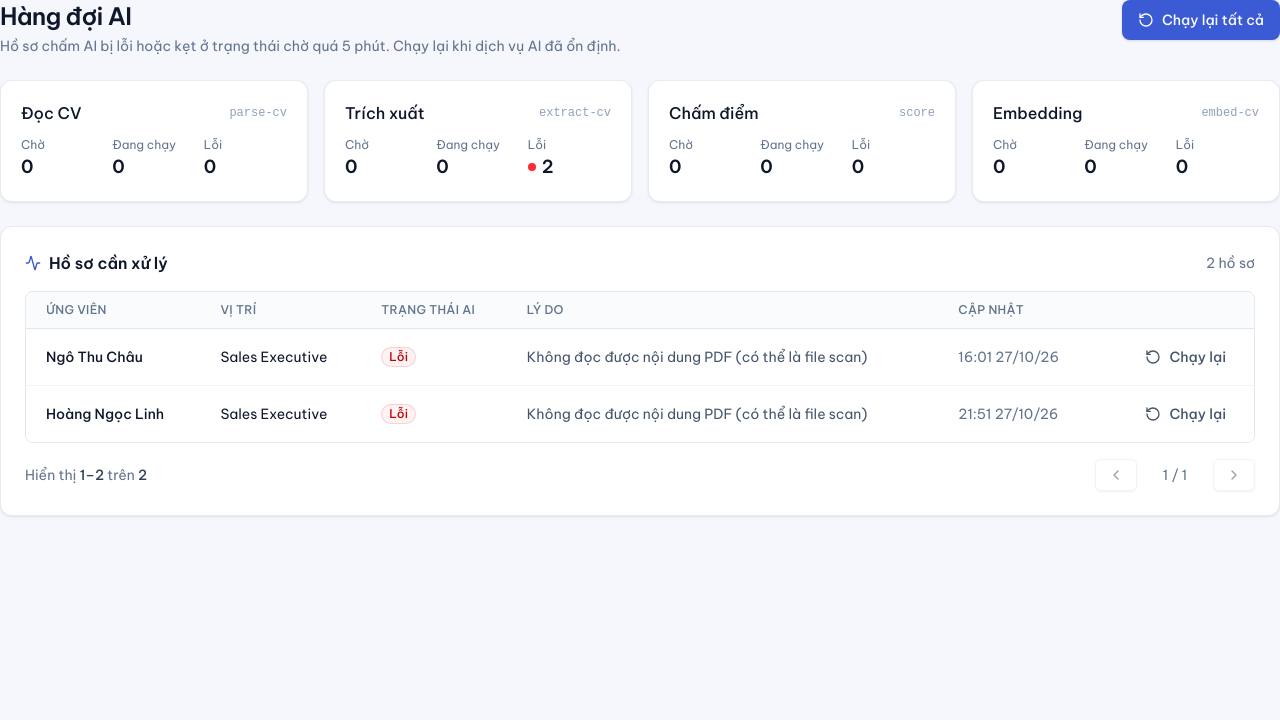
AiQueuePage › retries every failed application after confirmation
Expected: the text "2 hồ sơ" is shown, [1206,253,1255,273]
Click the button "Chạy lại tất cả": click(1201, 20) [1122,0,1279,40]
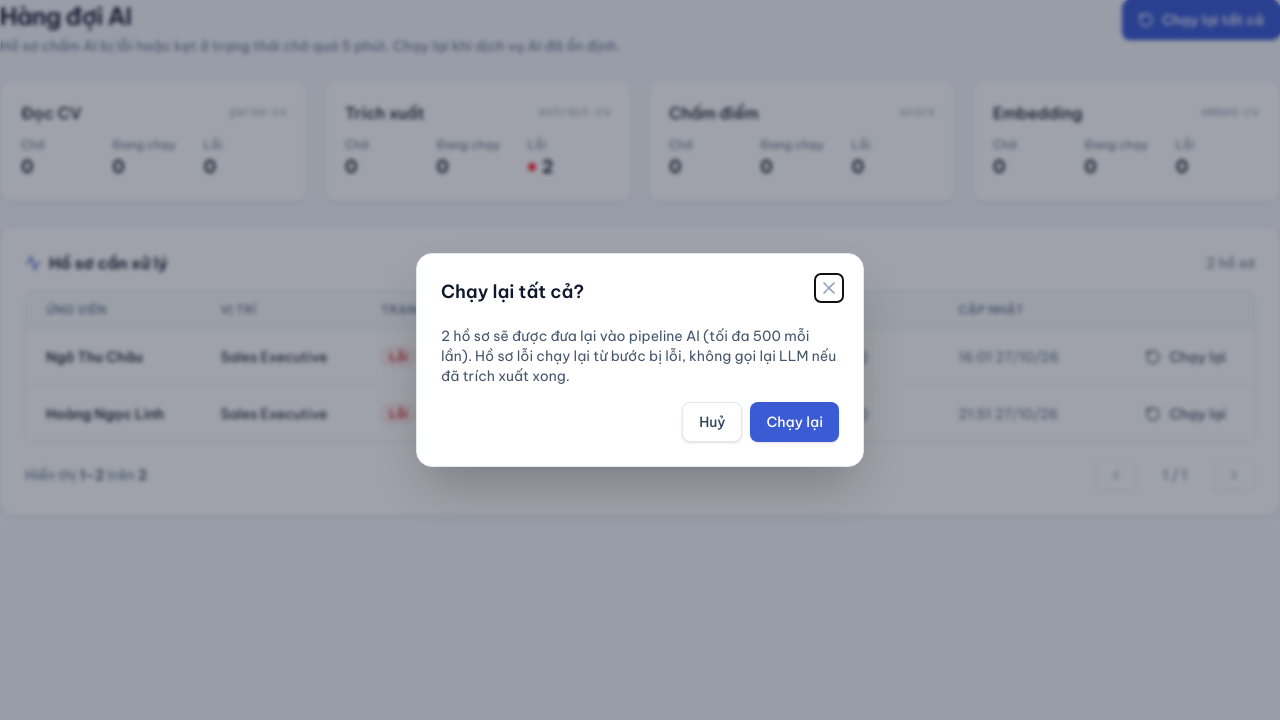
Click the button "Chạy lại": click(795, 422) [750,402,839,442]
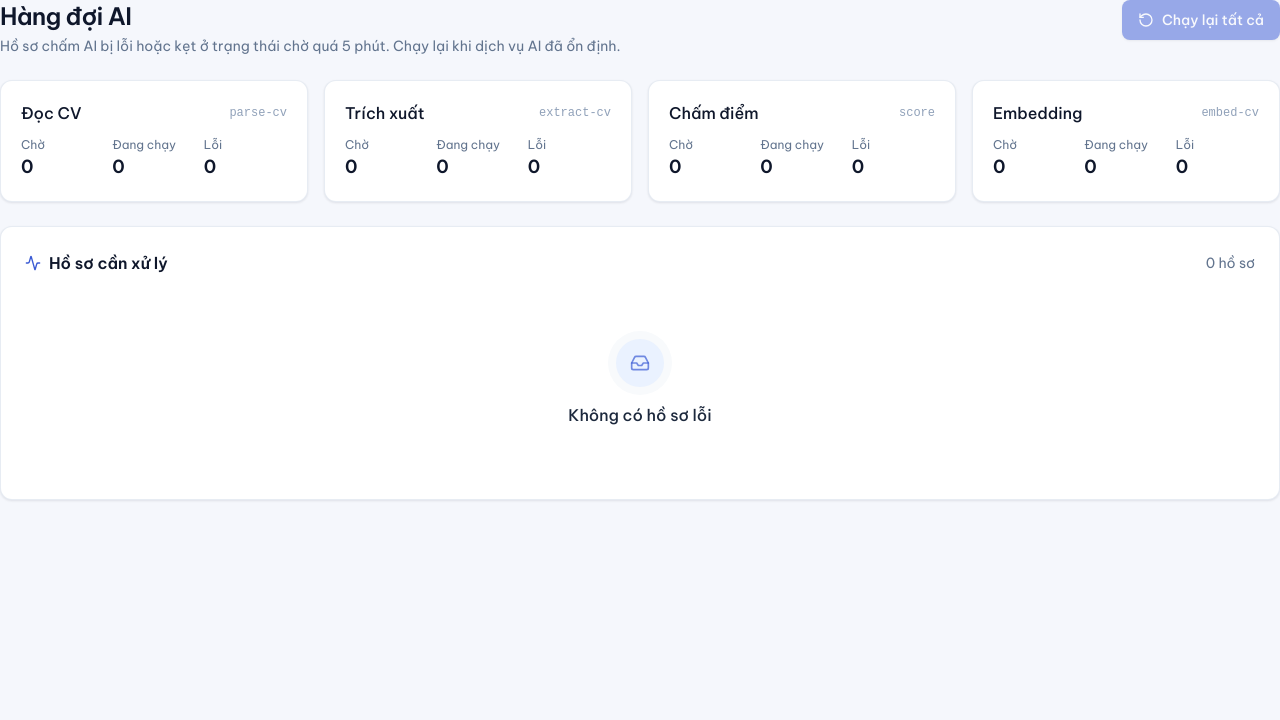
Result: the text "0 hồ sơ" is shown at [1206,253,1255,273]
Result: the button "Chạy lại tất cả" is disabled at [1122,0,1279,40]
